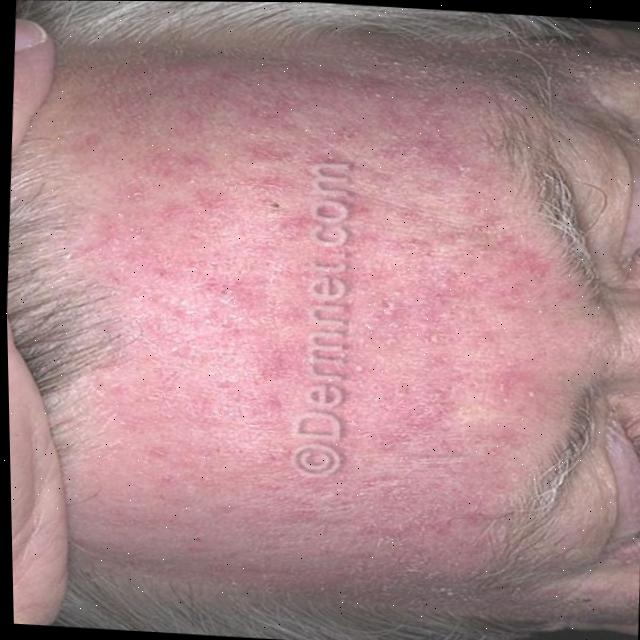Rosacea: (127, 102, 583, 527)
